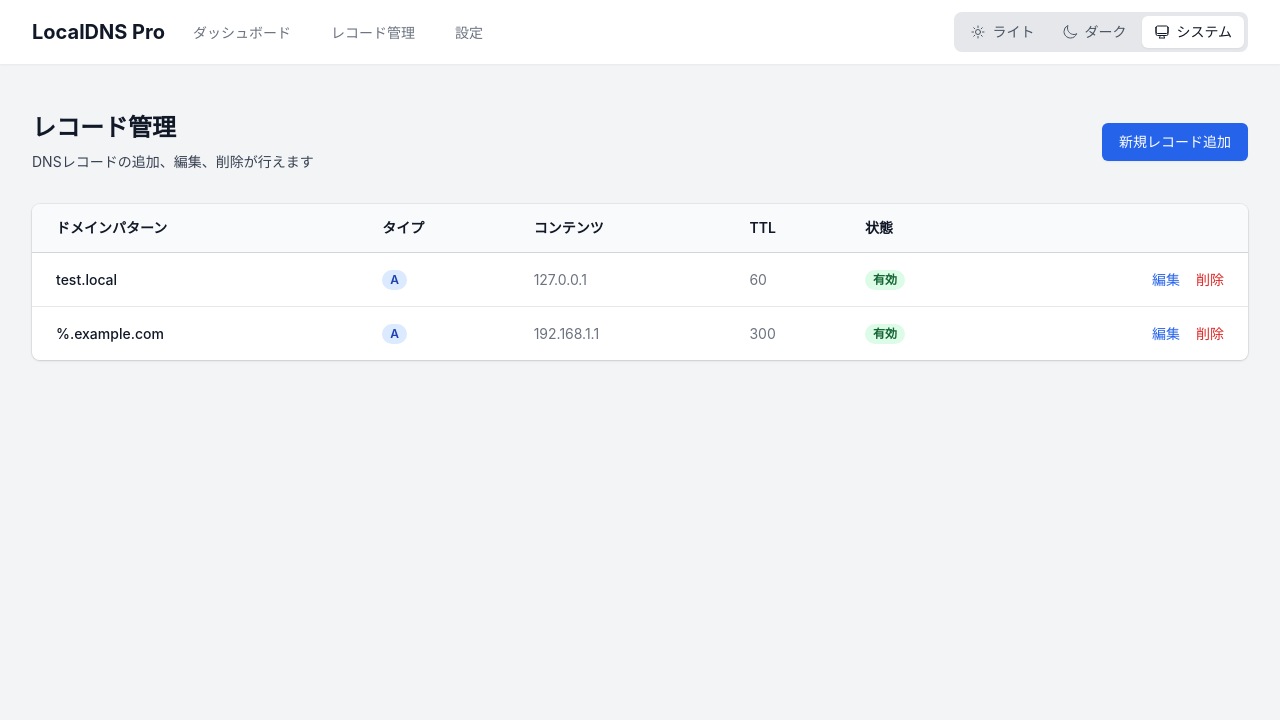
Test: App › 設定ページに遷移できる
Click the link "設定".
click(469, 32)  # box [455,24,483,41]
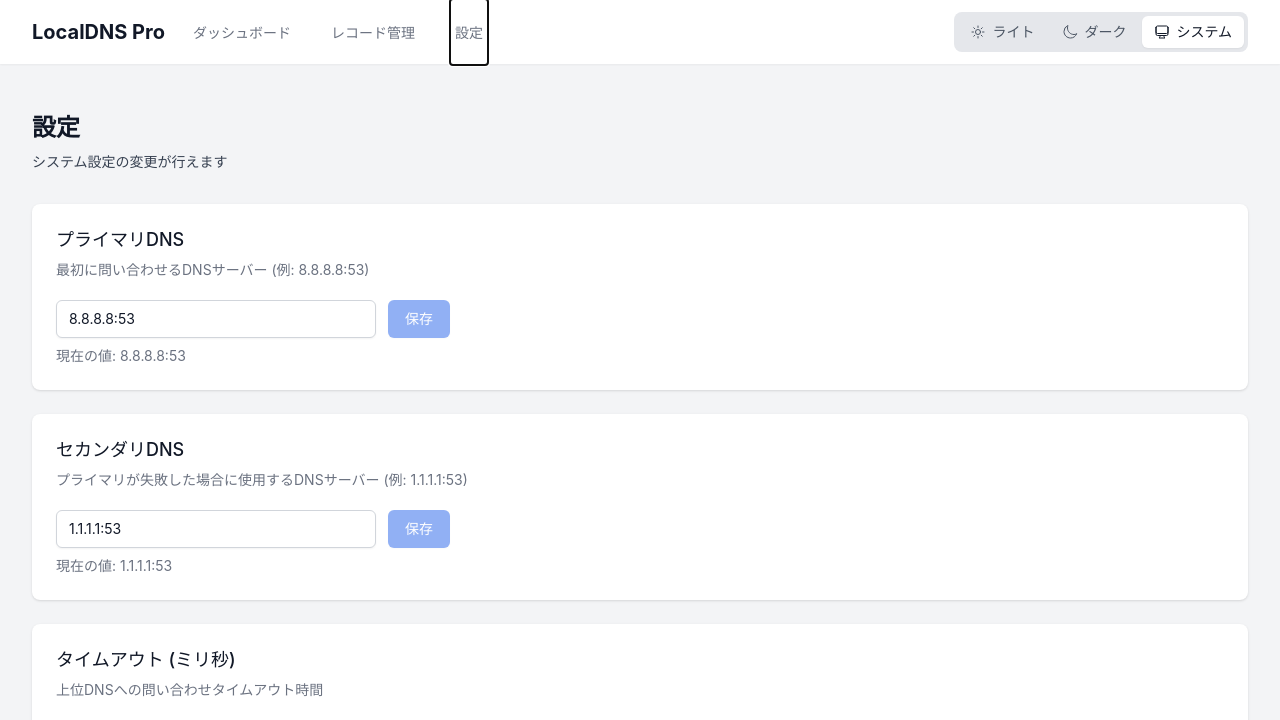
Check: the heading "設定" is shown, box [32,113,80,142]
